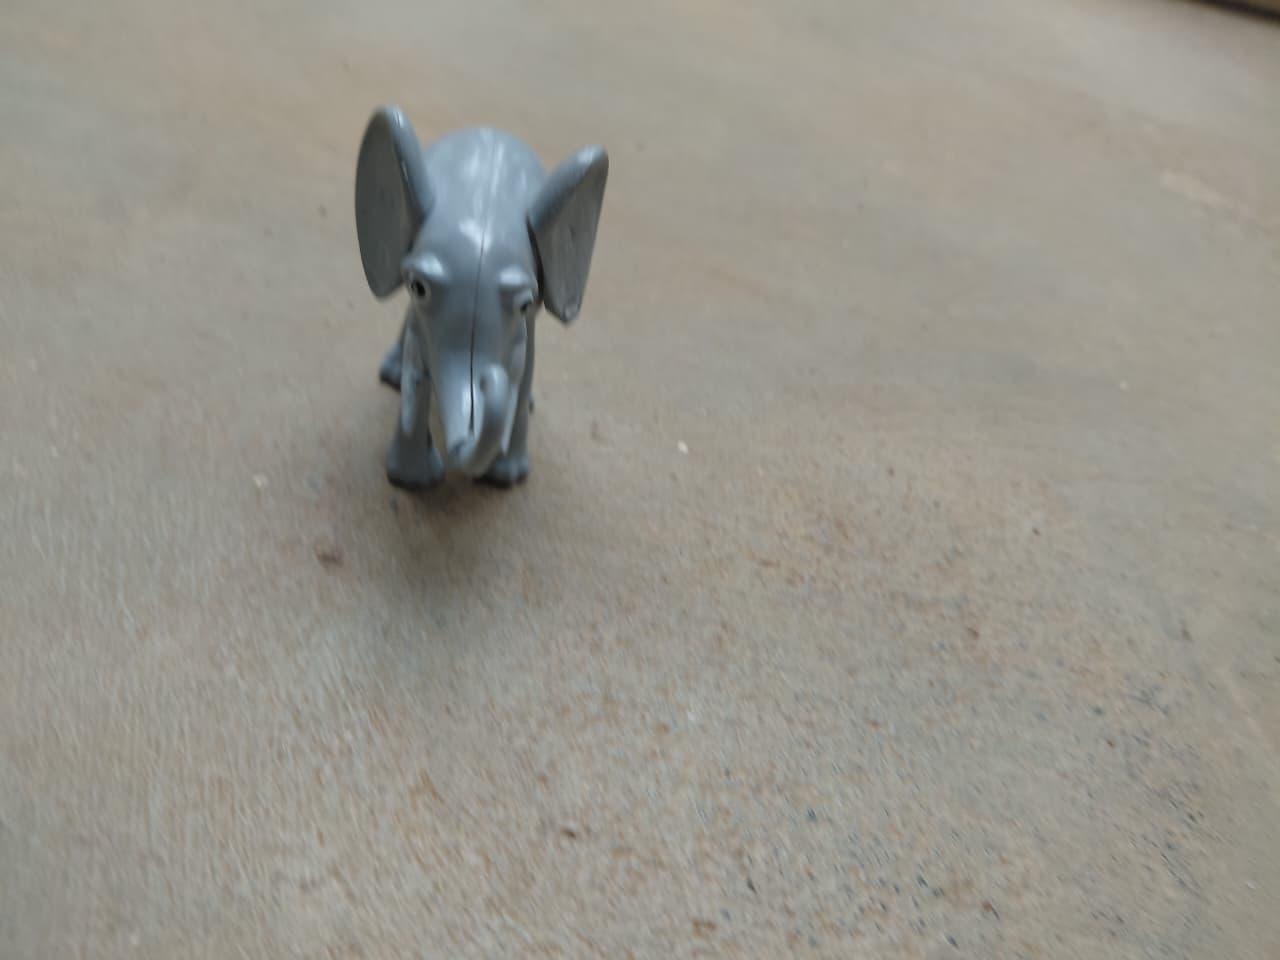elephant: (342, 93, 619, 508)
